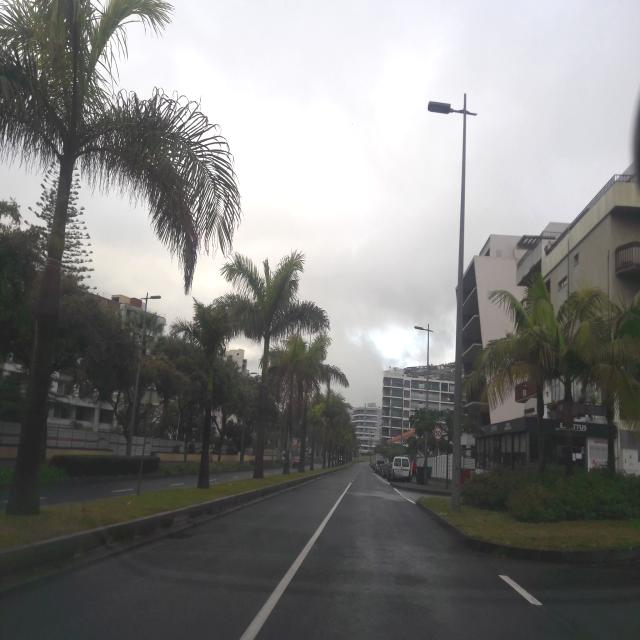car: (390, 456, 411, 482), (375, 459, 385, 473)
